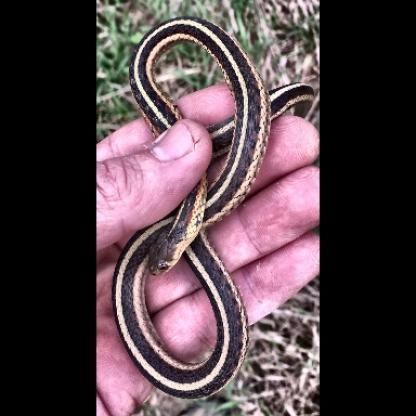Snake: (113, 17, 271, 396)
